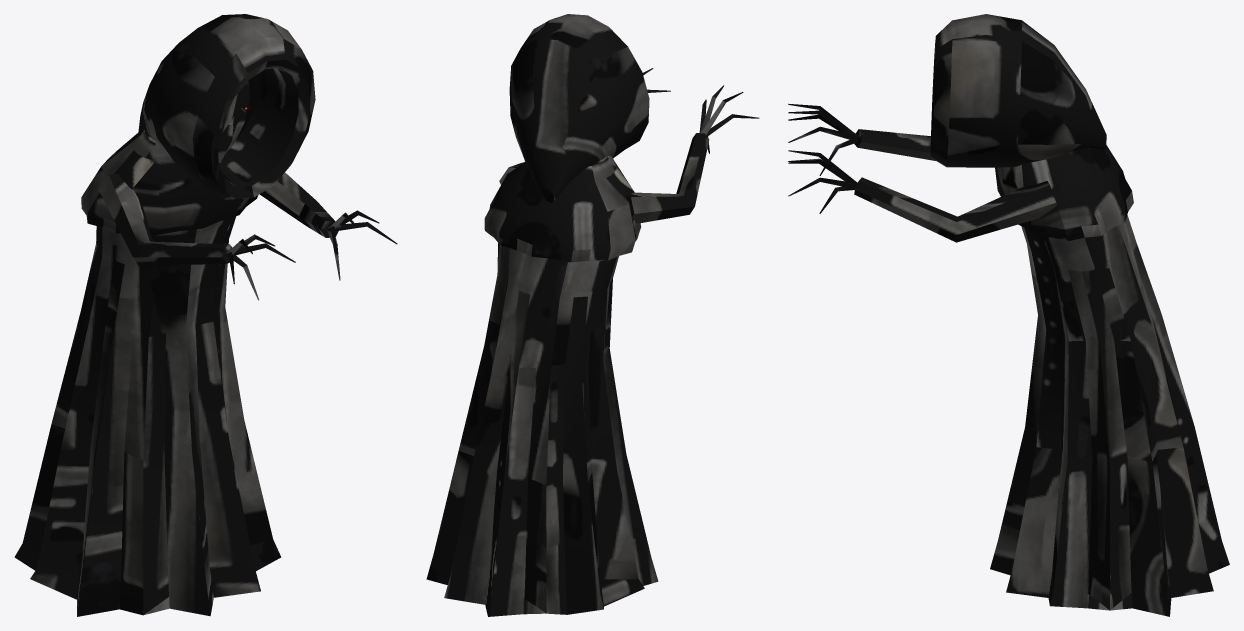
Rendered from penitent_3.fbx.
The picture shows the model from 3 angles, left to right: view 1: azimuth 30°, elevation 25°; view 2: azimuth 150°, elevation 25°; view 3: azimuth 270°, elevation 25°; orthographic projection. The views are drawn at different scales.
Parts seen in each view (by area): view 1: penitent_3; view 2: penitent_3; view 3: penitent_3.
Boxes of the visible parts, bbox=[...] form: penitent_3: bbox=[14, 14, 397, 616]; penitent_3: bbox=[426, 14, 759, 616]; penitent_3: bbox=[788, 14, 1229, 616].
Bounding box in the file's own units: 1.16 × 2.77 × 1.96.
Materials: 1 (1 with a texture image).
